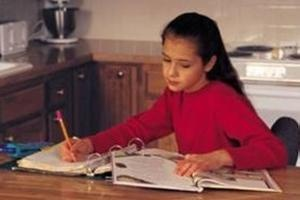person without safety: (141, 8, 250, 120)
